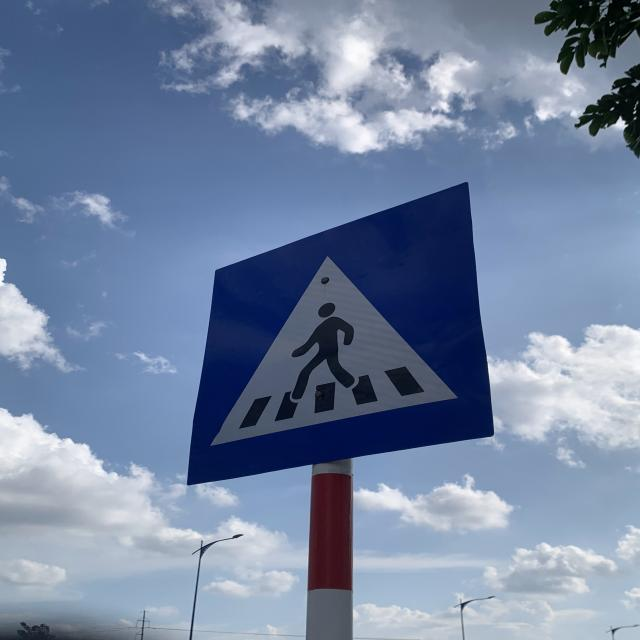Giao_Nhau_Duong_Uu_Tien: (186, 180, 494, 486)
